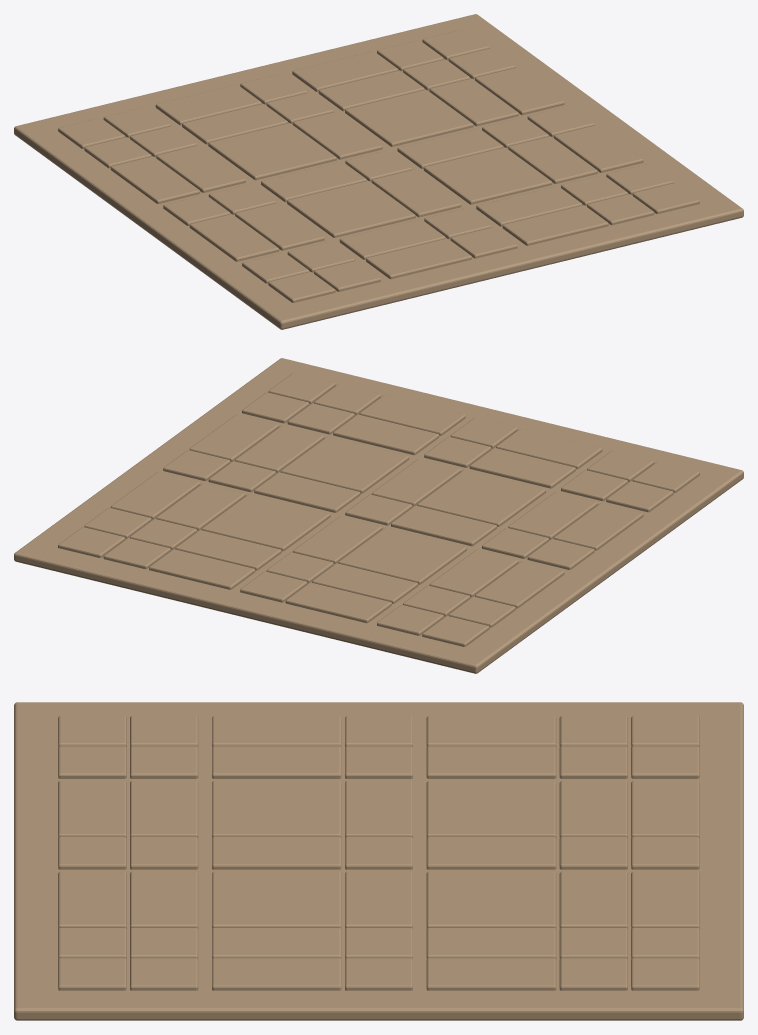
Rendered from SudokuBoard.fbx.
The picture shows the model from 3 angles, top to bottom: view 1: azimuth 30°, elevation 25°; view 2: azimuth 150°, elevation 25°; view 3: azimuth 270°, elevation 25°; orthographic projection. The views are drawn at different scales.
Visible parts, largest first — view 1: SudokuBoard; view 2: SudokuBoard; view 3: SudokuBoard.
Boxes of the visible parts, x1=… form: SudokuBoard: x1=14, y1=14, x2=743, y2=329; SudokuBoard: x1=14, y1=358, x2=743, y2=673; SudokuBoard: x1=14, y1=702, x2=743, y2=1020.
Bounding box in the file's own units: 1070 × 27.5 × 1070.
